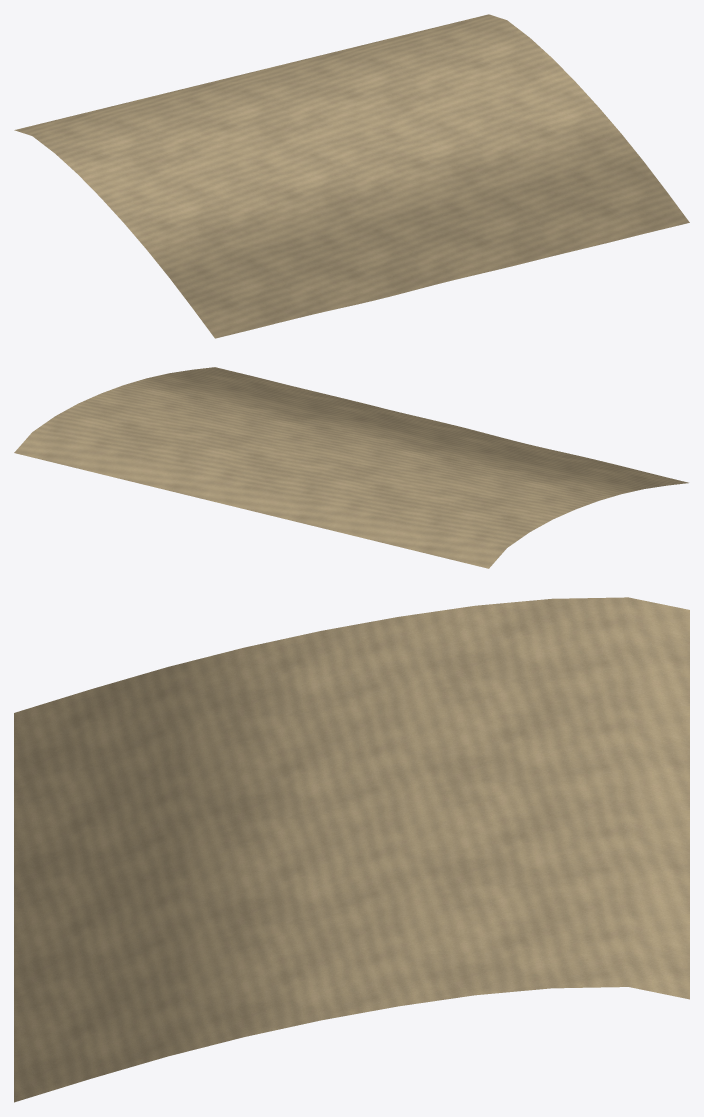
Rendered from beach_sand_straight6_v5_summer.glb.
3 views of the same model, one above another, from view 1: azimuth 30°, elevation 25°; view 2: azimuth 150°, elevation 25°; view 3: azimuth 270°, elevation 25° (orthographic). The views are drawn at different scales.
Visible parts, largest first — view 1: beach_sand_straight6; view 2: beach_sand_straight6; view 3: beach_sand_straight6.
Boxes of the visible parts, x1,y1,x2,y2 form: beach_sand_straight6: [14, 14, 689, 338]; beach_sand_straight6: [14, 367, 688, 568]; beach_sand_straight6: [14, 597, 689, 1102].
Size of the model in its own units: 6 by 0.8494 by 4.4.
1 material, 1 textured.
